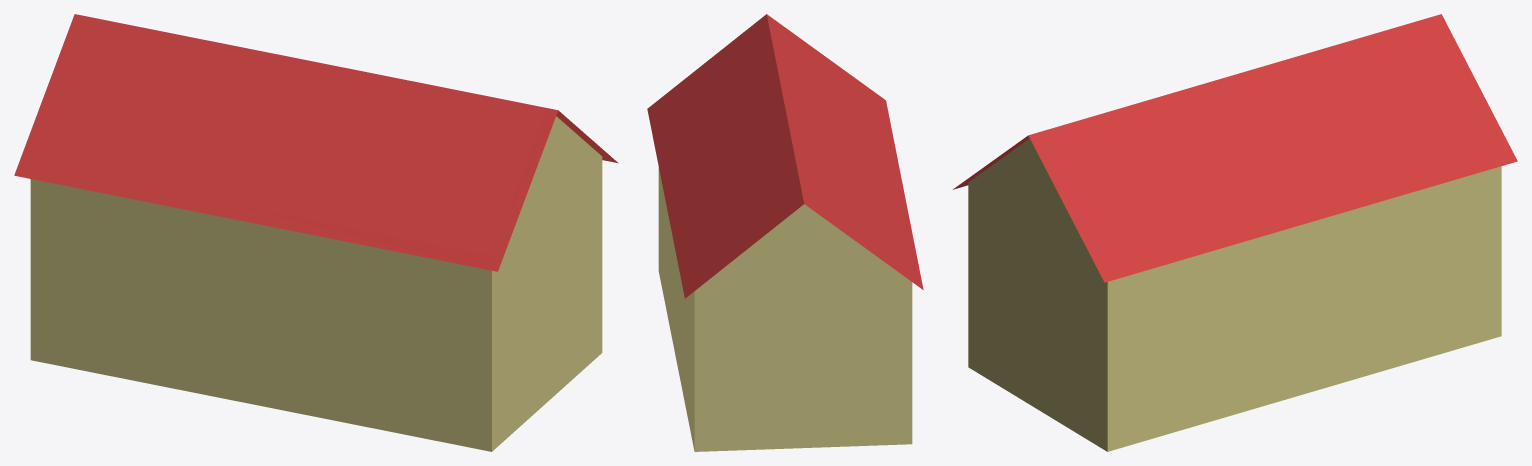
3 views of the same model, side by side, from view 1: azimuth 30°, elevation 25°; view 2: azimuth 150°, elevation 25°; view 3: azimuth 270°, elevation 25° (orthographic). The views are drawn at different scales.
Bounding box in the file's own units: 21.58 × 24.1 × 13.03.
